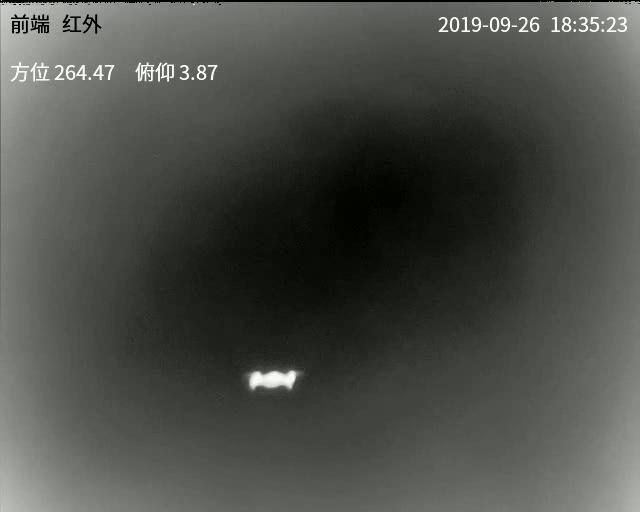DRONE: (245, 369, 298, 392)
